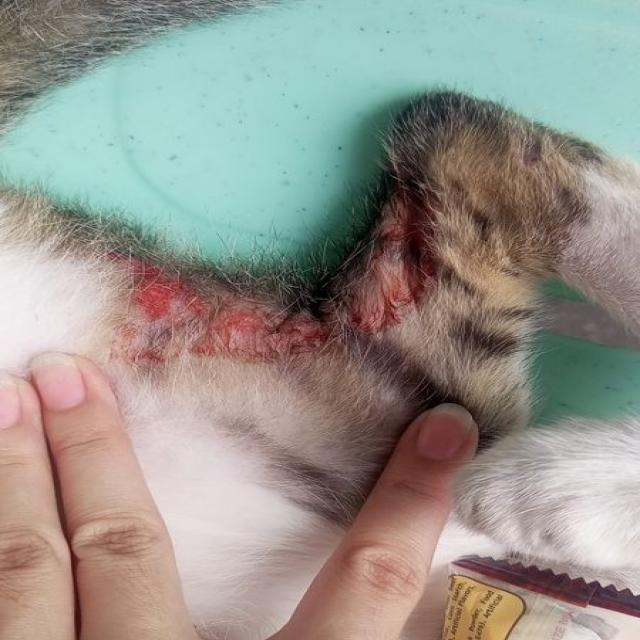hac lao: (89, 178, 463, 407)
